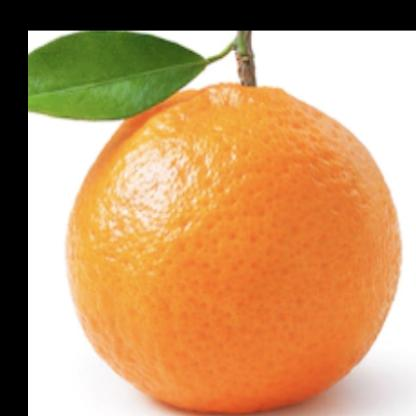rotten: (70, 69, 398, 416)
